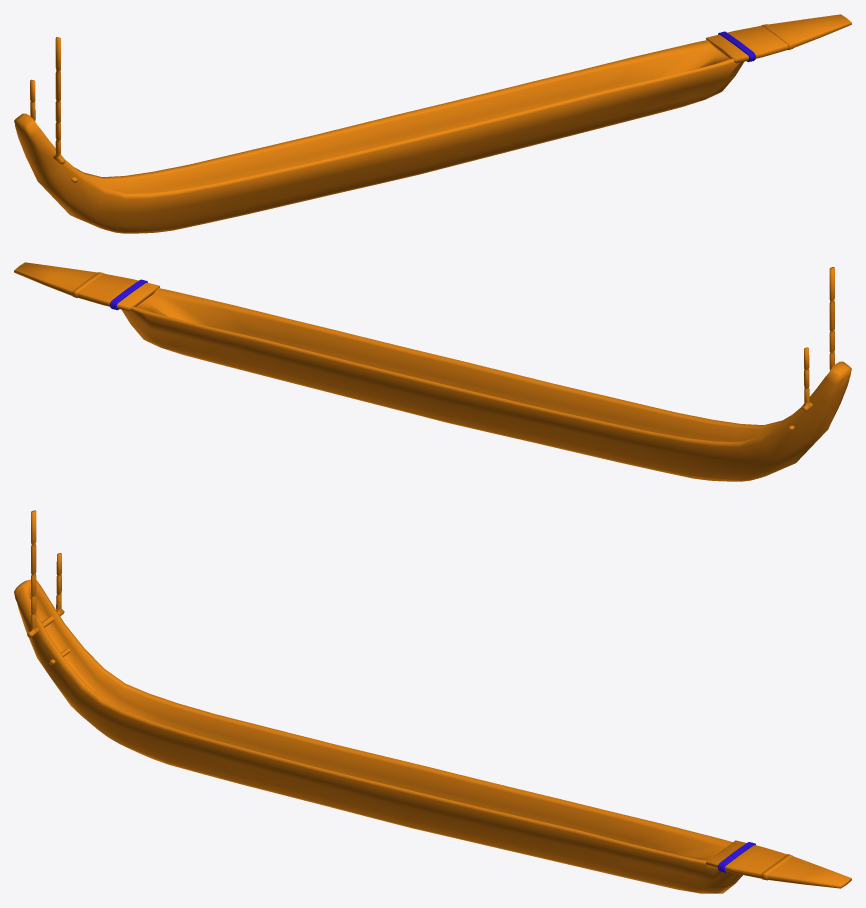
The model's file is SM_Tipairua_Canoe.fbx.
3 views of the same model, one above another, from view 1: azimuth 30°, elevation 25°; view 2: azimuth 150°, elevation 25°; view 3: azimuth 330°, elevation 25° (orthographic).
Parts seen in each view (by area): view 1: SM_TIpairua_Canoe; view 2: SM_TIpairua_Canoe; view 3: SM_TIpairua_Canoe.
Part boxes in pixels (<box>): SM_TIpairua_Canoe: <box>14,14,851,233</box>; SM_TIpairua_Canoe: <box>14,262,851,481</box>; SM_TIpairua_Canoe: <box>14,510,851,893</box>.
Bounding box in the file's own units: 188 × 2713 × 735.
